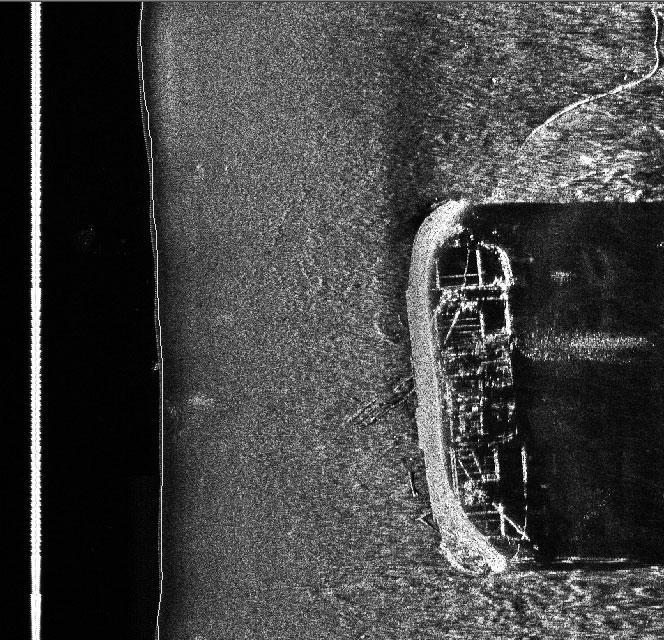ship: (404, 197, 538, 579)
